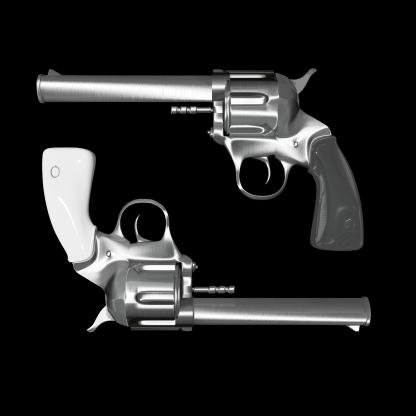handgun: (41, 146, 375, 335), (34, 62, 365, 250)
